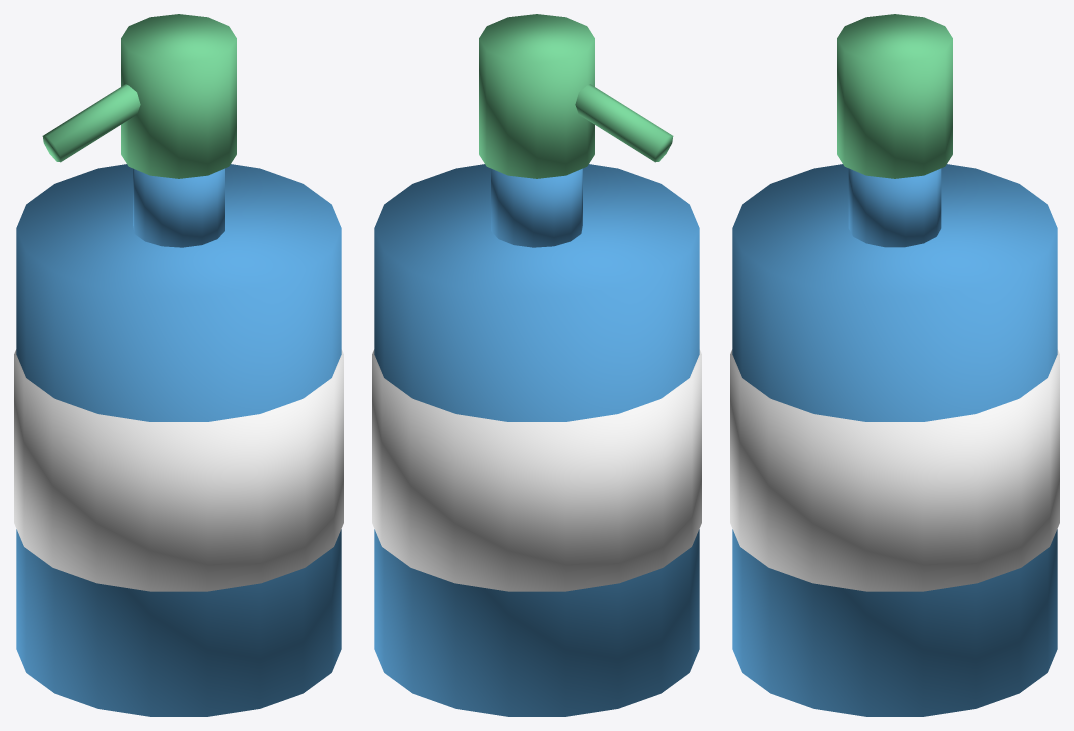
The model's file is Indo_Galon_Pump.fbx.
3 views of the same model, side by side, from view 1: azimuth 30°, elevation 25°; view 2: azimuth 150°, elevation 25°; view 3: azimuth 270°, elevation 25° (orthographic).
Visible parts, largest first — view 1: Indo_Galon_Pump; view 2: Indo_Galon_Pump; view 3: Indo_Galon_Pump.
Part boxes in pixels (x1,y1,x2,y2): Indo_Galon_Pump: (14, 14, 343, 716); Indo_Galon_Pump: (372, 14, 701, 716); Indo_Galon_Pump: (730, 14, 1059, 716).
Bounding box in the file's own units: 27.97 × 58 × 28.4.
